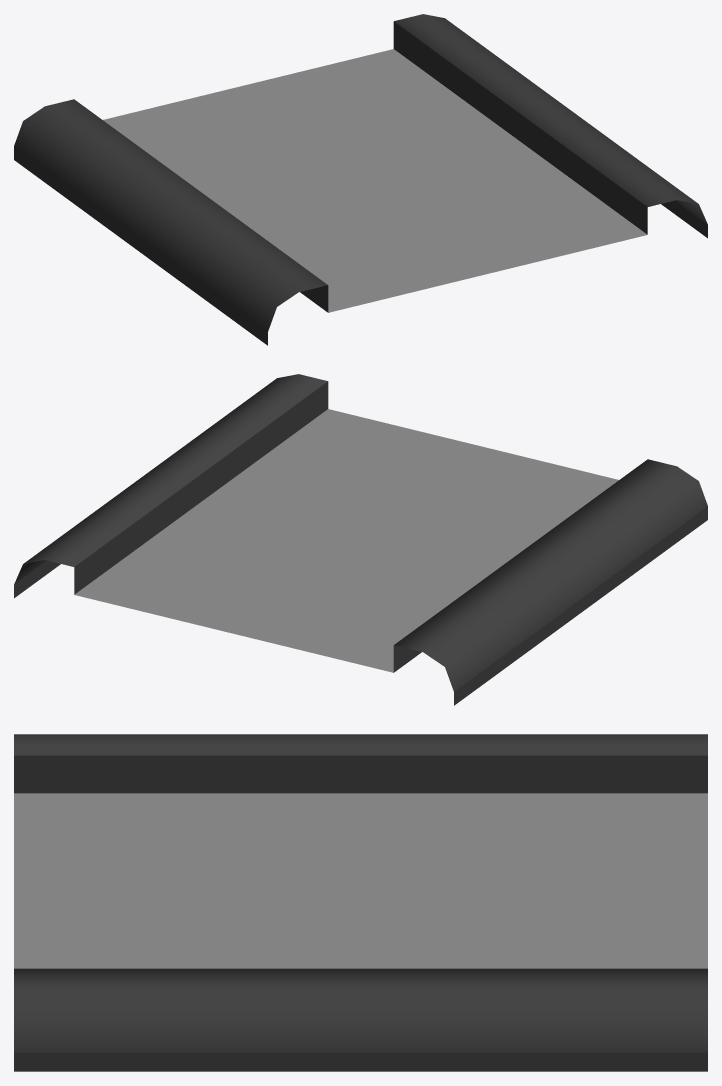
3 renders of one model, top to bottom at view 1: azimuth 30°, elevation 25°; view 2: azimuth 150°, elevation 25°; view 3: azimuth 270°, elevation 25°, orthographic. The views are drawn at different scales.
Parts seen in each view (by area): view 1: Tilepath B 2 Connections Path; view 2: Tilepath B 2 Connections Path; view 3: Tilepath B 2 Connections Path.
Boxes of the visible parts, x1=… form: Tilepath B 2 Connections Path: x1=14, y1=14, x2=707, y2=345; Tilepath B 2 Connections Path: x1=14, y1=374, x2=707, y2=705; Tilepath B 2 Connections Path: x1=14, y1=734, x2=707, y2=1071.
Size of the model in its own units: 1 by 0.1001 by 1.
Materials: 1 (1 with a texture image).
